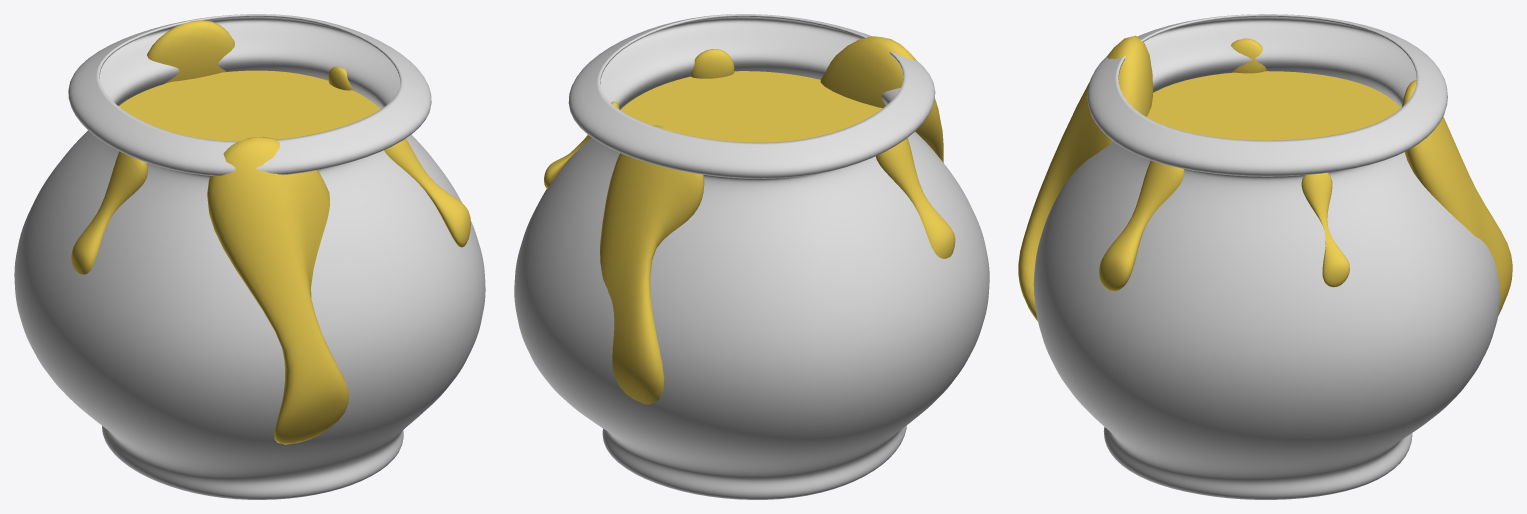
The model's file is honey_jar.fbx.
The picture shows the model from 3 angles, left to right: view 1: azimuth 30°, elevation 25°; view 2: azimuth 150°, elevation 25°; view 3: azimuth 270°, elevation 25°; orthographic projection.
Visible parts, largest first — view 1: Honey Jar; view 2: Honey Jar; view 3: Honey Jar.
Boxes of the visible parts, box(x1,y1,x2,y2) form: Honey Jar: box(14, 14, 485, 499); Honey Jar: box(514, 14, 989, 499); Honey Jar: box(1018, 14, 1512, 499).
Size of the model in its own units: 144 by 128 by 152.
